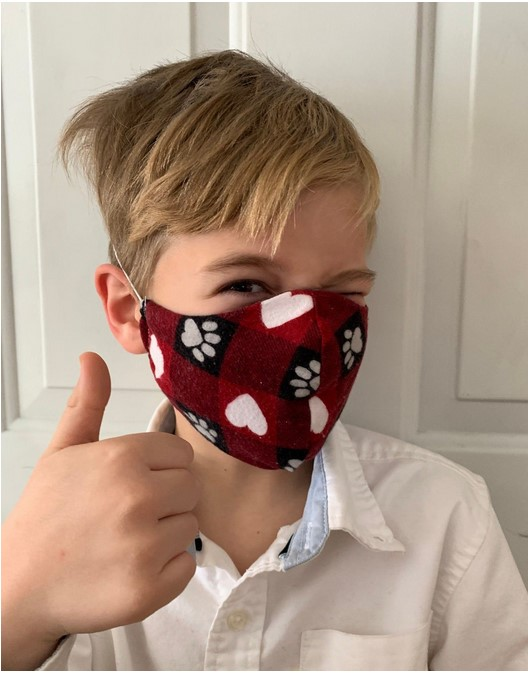face_with_mask: (96, 73, 374, 476)
